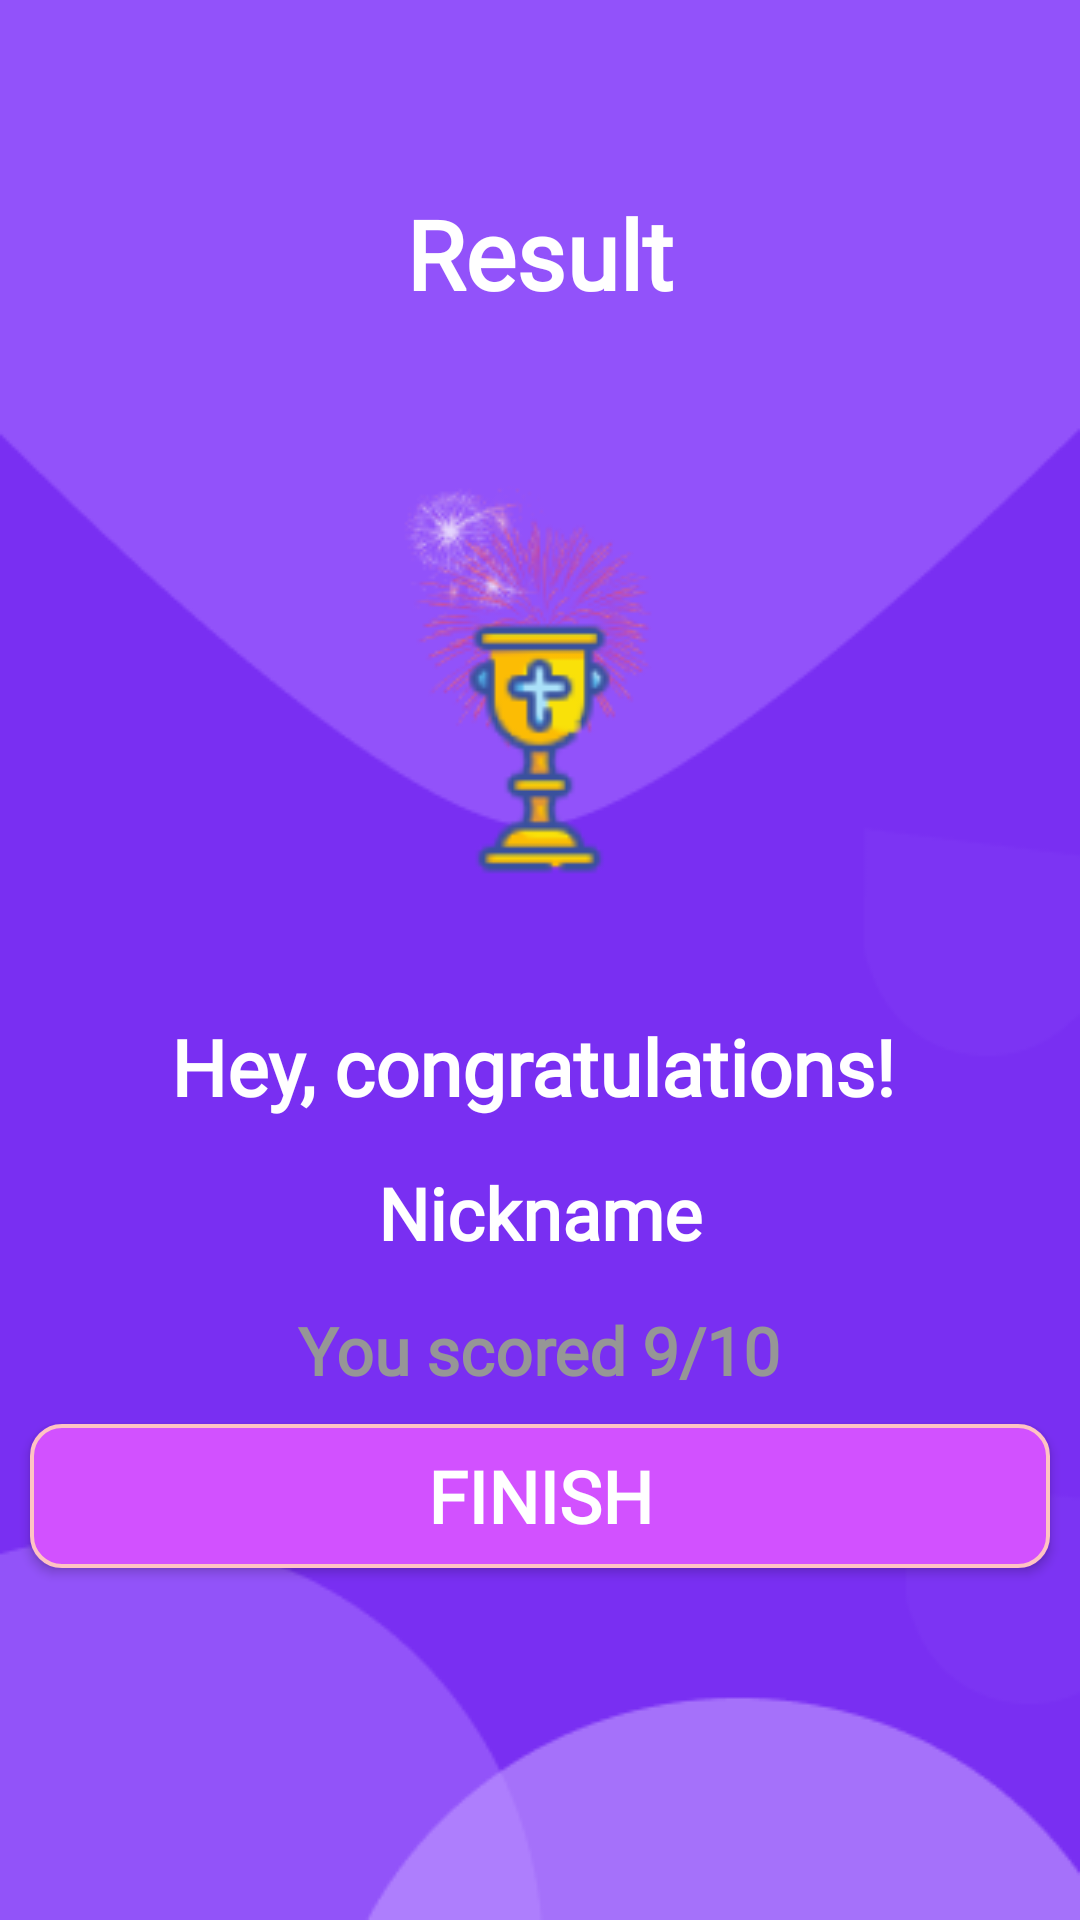

Screen size 1080 × 1920. Icon name, then its center in pixels as [x,y]:
goblet: [539,748]
